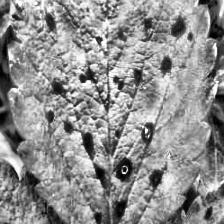Leaf Spot: (5, 0, 220, 224), (0, 157, 108, 224), (122, 174, 223, 224)
